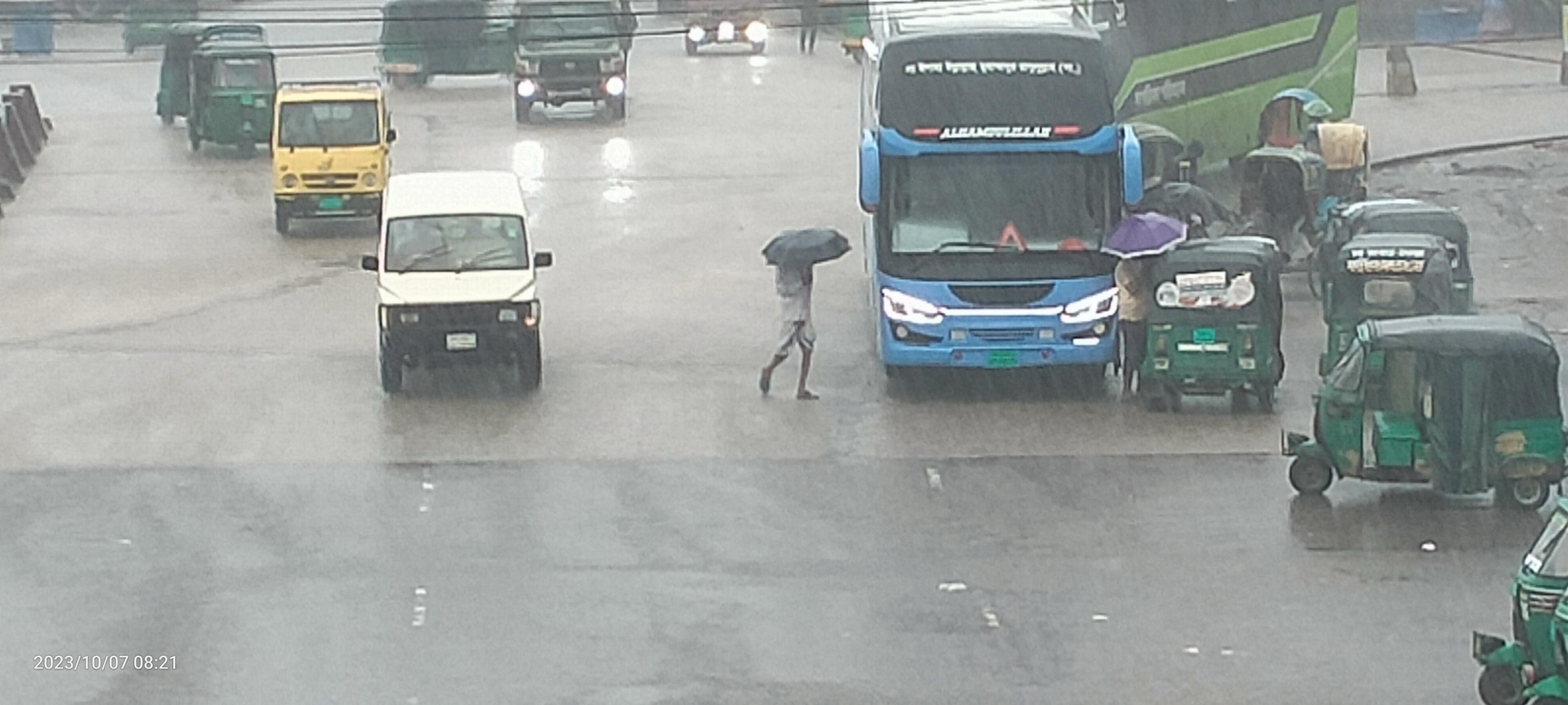Bus: (829, 0, 1167, 421), (853, 5, 1417, 175)
Car: (353, 160, 560, 428), (1212, 128, 1328, 268)
Truck: (245, 63, 409, 254), (492, 0, 657, 143)
